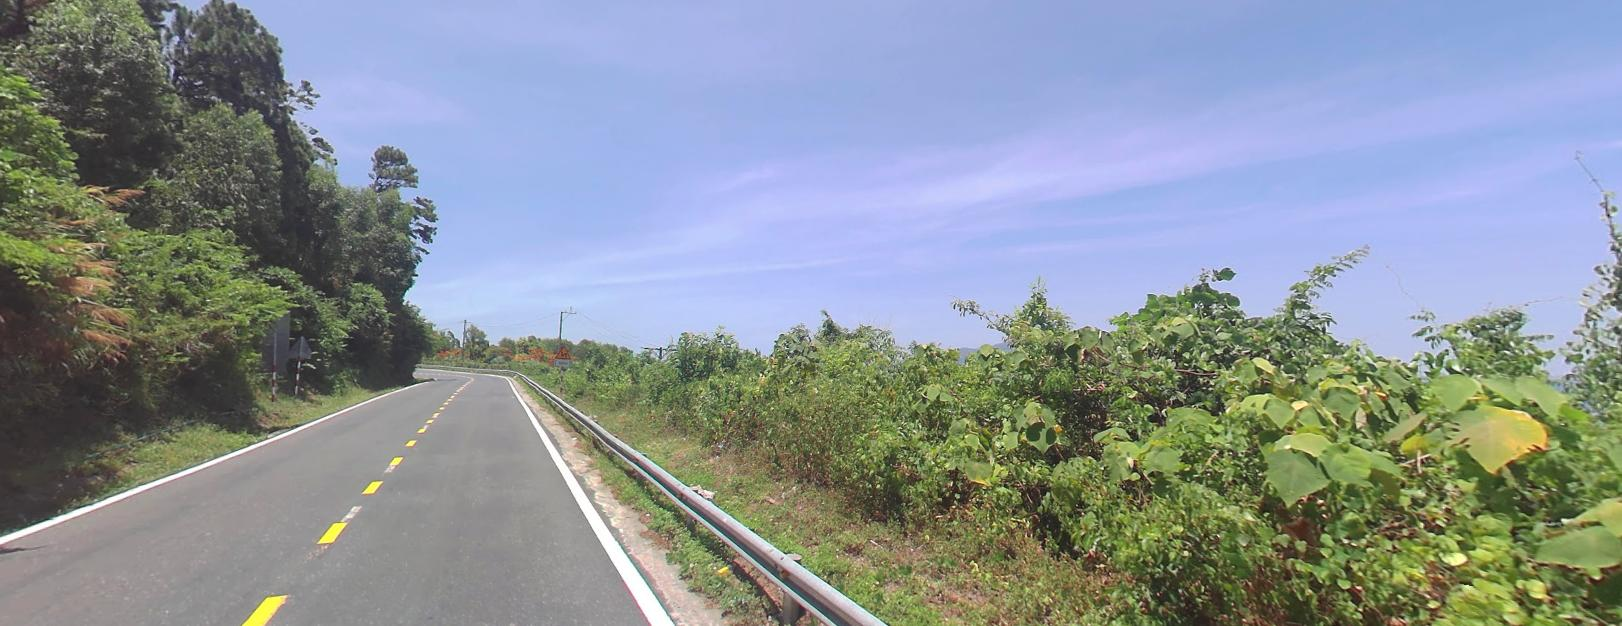Nguy hiem: (554, 342, 571, 357)
